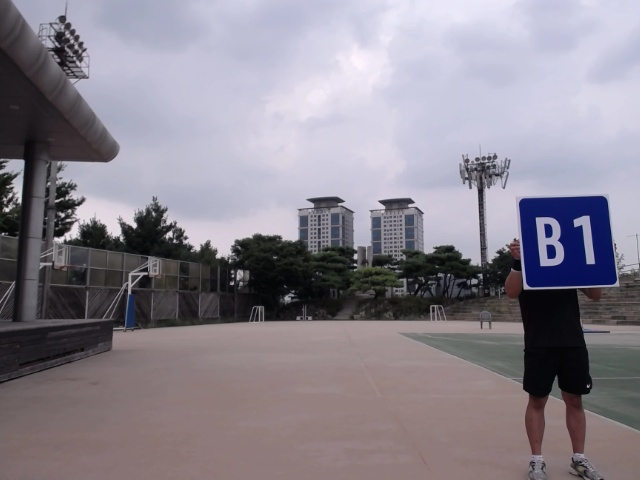delivery_b1: (515, 195, 619, 288)
